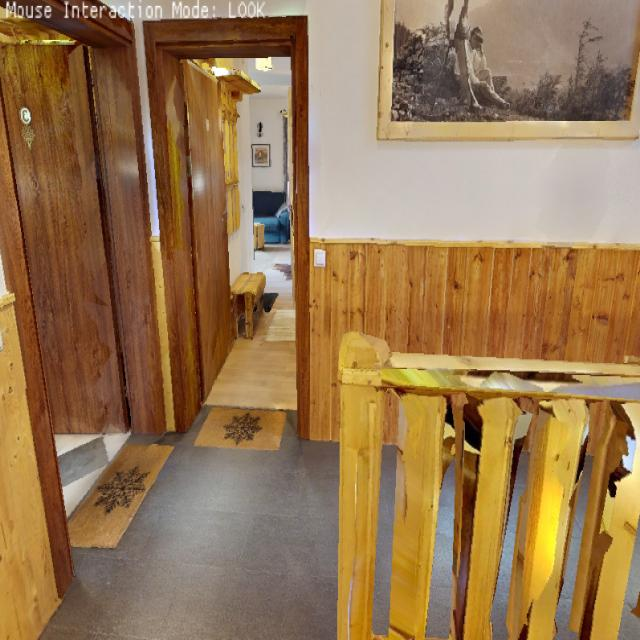door: (174, 61, 238, 382)
door-frame: (156, 1, 311, 440)
